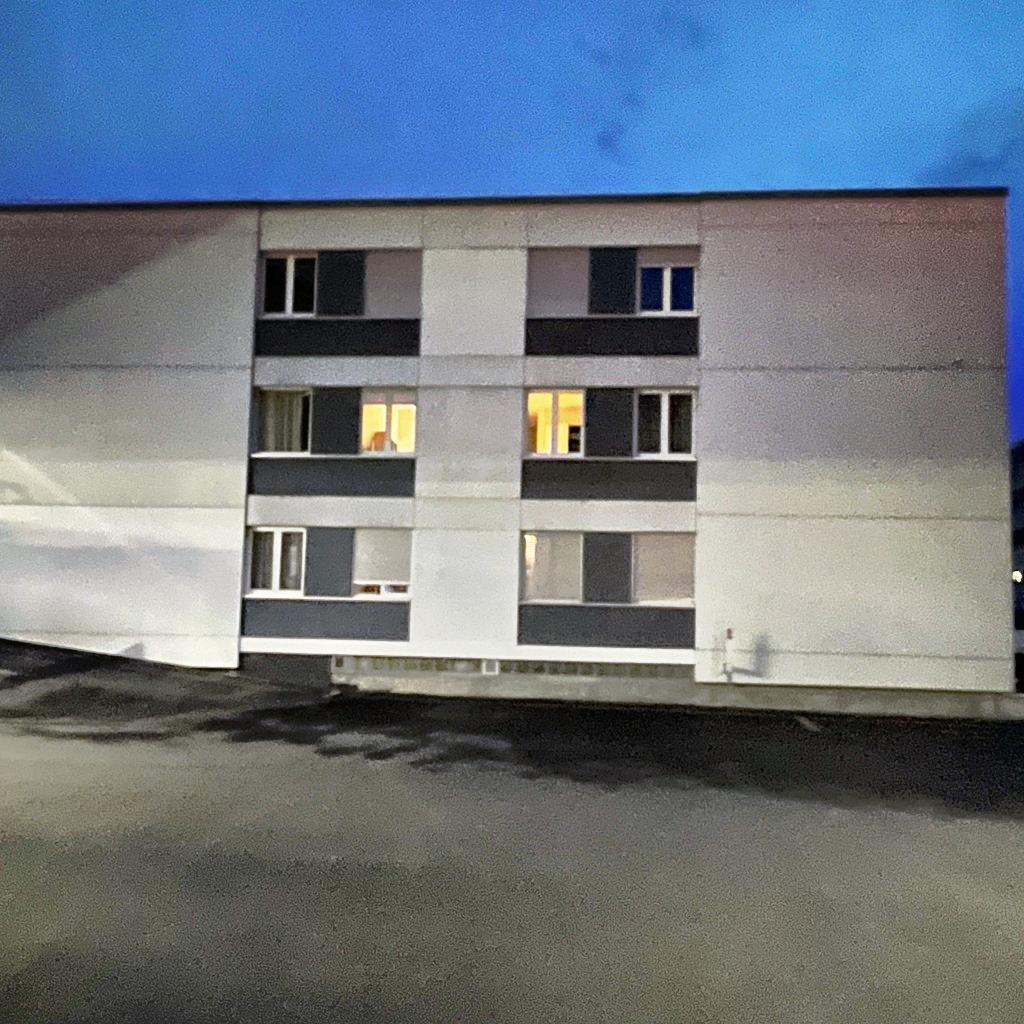facade: (0, 188, 1024, 692)
fence: (329, 657, 1024, 721)
street: (0, 642, 1024, 1024)
window: (242, 527, 307, 598), (634, 388, 698, 460), (632, 533, 695, 606), (520, 530, 582, 604), (526, 247, 591, 317), (638, 246, 701, 316), (523, 386, 584, 458), (353, 527, 413, 600), (250, 387, 313, 456), (360, 387, 417, 456), (259, 252, 318, 318), (366, 250, 422, 317)
